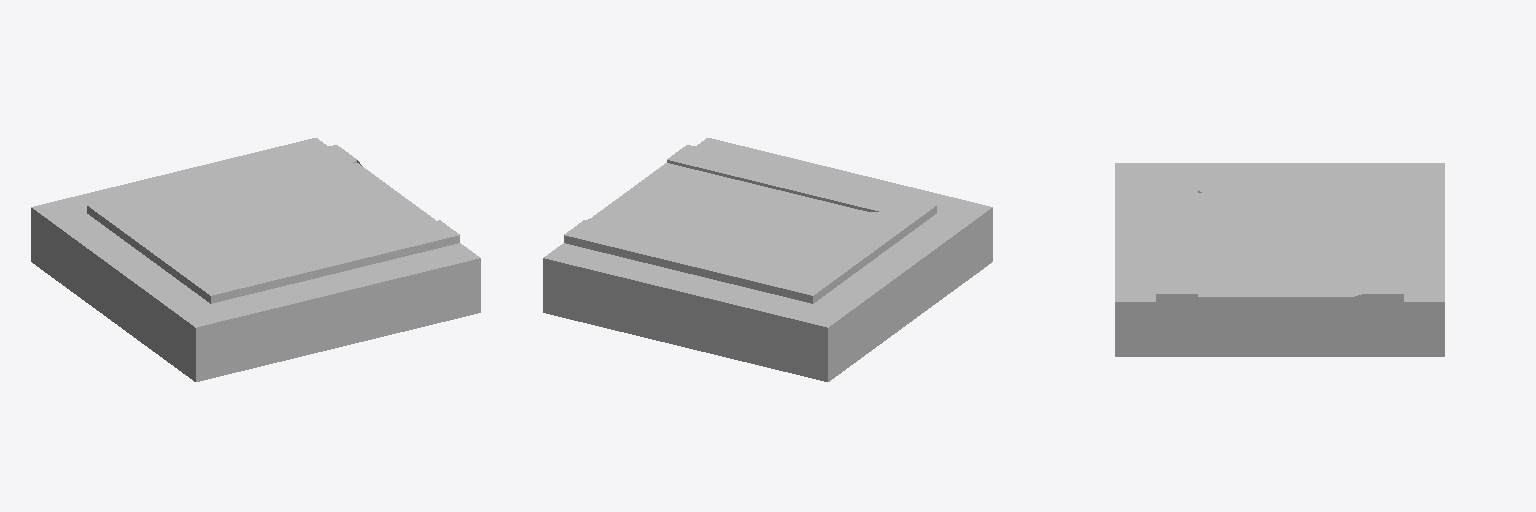
Rendered from roadTile_038.obj.
3 renders of one model, left to right at view 1: azimuth 30°, elevation 25°; view 2: azimuth 150°, elevation 25°; view 3: azimuth 270°, elevation 25°, orthographic.
Visible parts, largest first — view 1: Mesh1_Group1_Model; view 2: Mesh1_Group1_Model; view 3: Mesh1_Group1_Model.
Boxes of the visible parts, x1,y1,x2,y2 form: Mesh1_Group1_Model: [31, 138, 480, 381]; Mesh1_Group1_Model: [543, 138, 992, 381]; Mesh1_Group1_Model: [1115, 163, 1444, 356].
Size of the model in its own units: 1.05 by 0.2205 by 1.05.